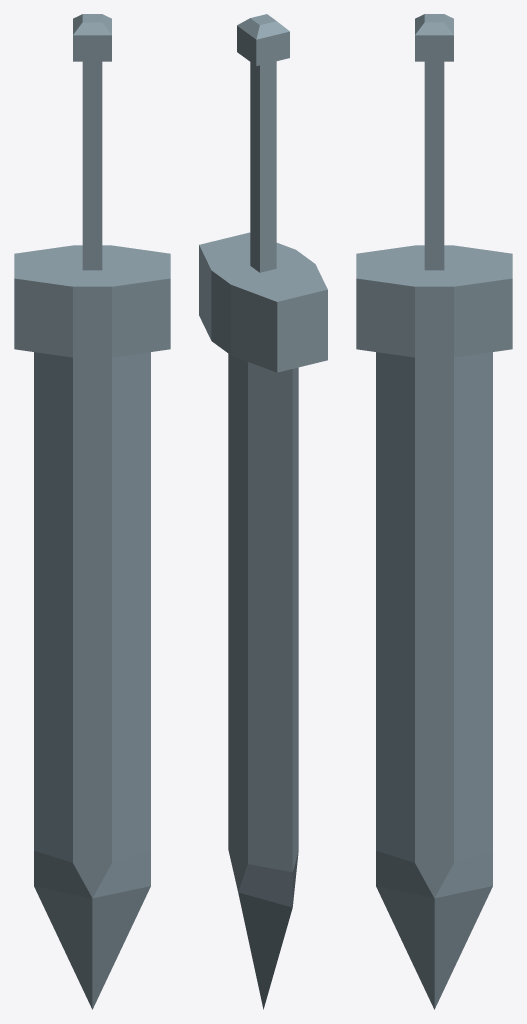
The model's file is greatsword.gltf.
3 renders of one model, left to right at view 1: azimuth 90°, elevation 25°; view 2: azimuth 210°, elevation 25°; view 3: azimuth 270°, elevation 25°, orthographic.
Parts seen in each view (by area): view 1: cuboid; view 2: cuboid; view 3: cuboid.
Part boxes in pixels (<box>): cuboid: <box>14,14,170,1009</box>; cuboid: <box>199,14,327,1009</box>; cuboid: <box>356,14,512,1009</box>.
Bounding box in the file's own units: 0.625 × 7 × 1.
Materials: 1 (1 with a texture image).
